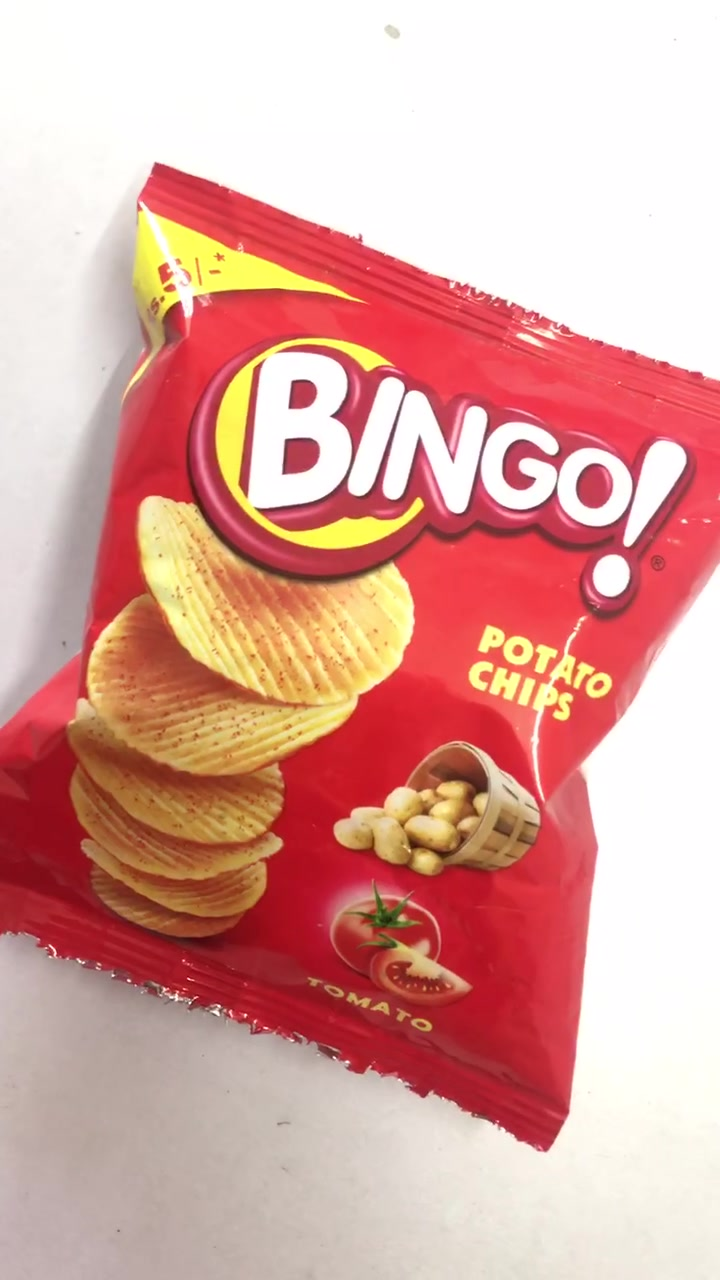Bingo: (5, 167, 720, 1128)
